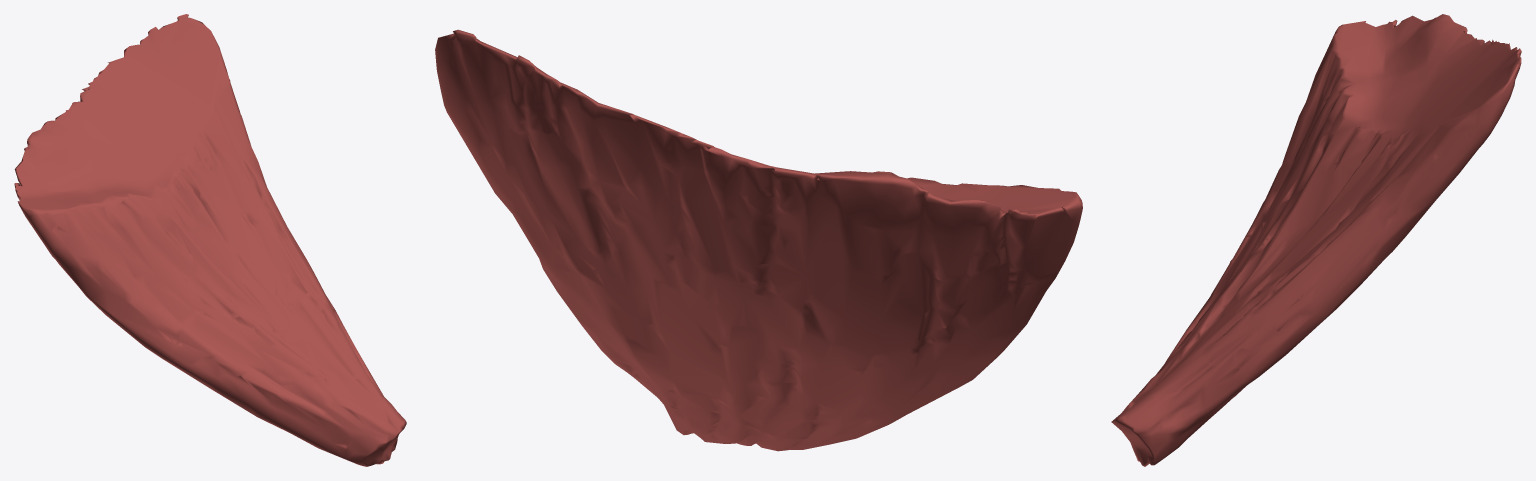
The model's file is FMA32532.glb.
3 views of the same model, side by side, from view 1: azimuth 30°, elevation 25°; view 2: azimuth 150°, elevation 25°; view 3: azimuth 270°, elevation 25° (orthographic). The views are drawn at different scales.
Visible parts, largest first — view 1: FMA32532; view 2: FMA32532; view 3: FMA32532.
Boxes of the visible parts, box(x1,y1,x2,y2) form: FMA32532: box(14, 14, 406, 466); FMA32532: box(435, 29, 1082, 451); FMA32532: box(1111, 14, 1521, 466).
Bounding box in the file's own units: 0.0228 × 0.0253 × 0.0245.
